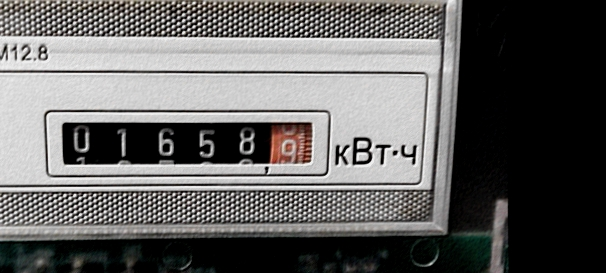0: (71, 123, 92, 153)
1: (114, 125, 132, 157)
5: (196, 126, 218, 158)
6: (156, 124, 177, 157)
8: (237, 123, 258, 155)
9: (278, 137, 299, 165)
screen: (35, 98, 336, 184)
